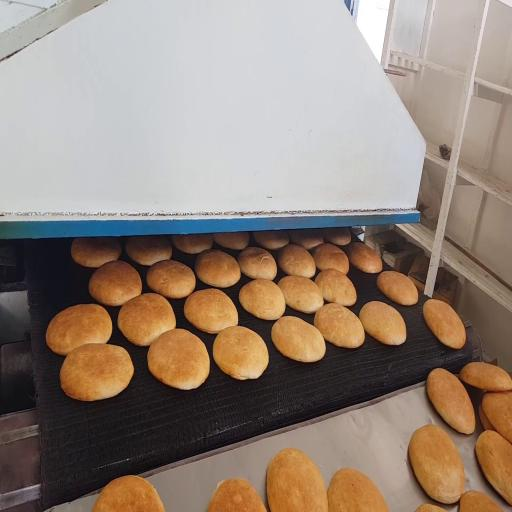bread: (409, 425, 465, 503), (60, 344, 133, 401), (267, 448, 328, 511), (148, 329, 209, 389), (46, 304, 112, 355), (427, 368, 475, 434), (118, 293, 175, 346), (213, 326, 268, 380), (476, 430, 511, 504), (328, 468, 388, 511), (93, 476, 165, 511), (272, 316, 325, 362), (89, 261, 142, 306), (184, 289, 238, 333), (314, 304, 364, 348), (423, 299, 466, 348), (359, 302, 406, 345), (239, 279, 285, 320), (208, 479, 266, 511), (147, 260, 195, 298), (195, 250, 240, 288), (278, 276, 323, 313), (460, 362, 511, 392), (315, 269, 356, 306), (71, 238, 121, 268), (482, 392, 511, 442), (377, 271, 418, 305), (126, 236, 172, 265), (238, 247, 277, 279), (278, 245, 315, 277), (313, 244, 349, 274), (347, 243, 382, 273), (459, 491, 502, 511), (172, 234, 213, 254), (289, 229, 323, 249), (253, 231, 289, 249), (214, 232, 249, 250), (322, 228, 351, 245), (479, 403, 494, 430), (415, 504, 445, 511)
